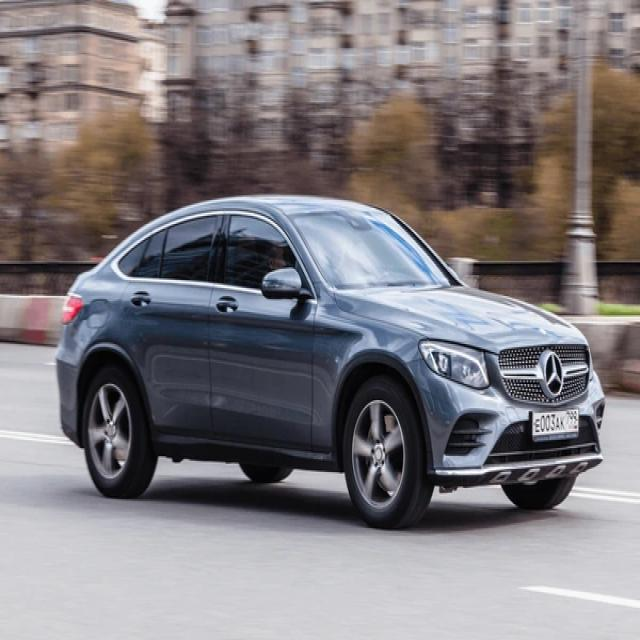mercedes: (540, 350, 566, 402)
